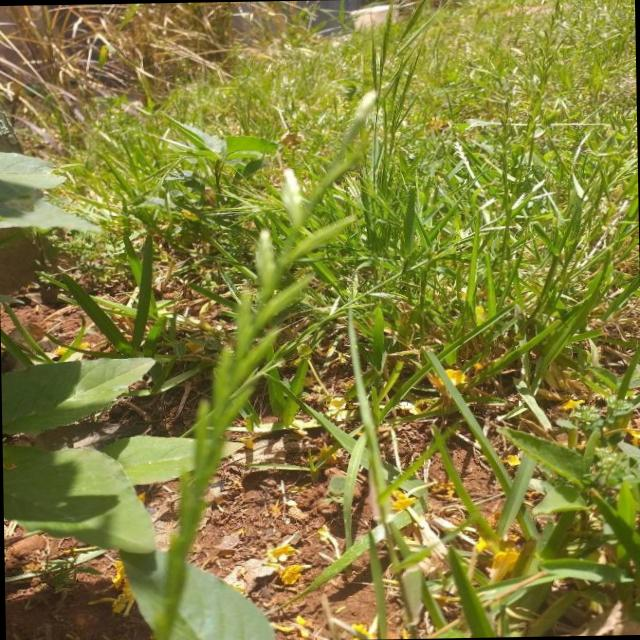Lolium: (138, 94, 388, 640), (515, 142, 638, 365), (360, 12, 424, 298), (490, 147, 540, 331), (513, 0, 571, 145)
